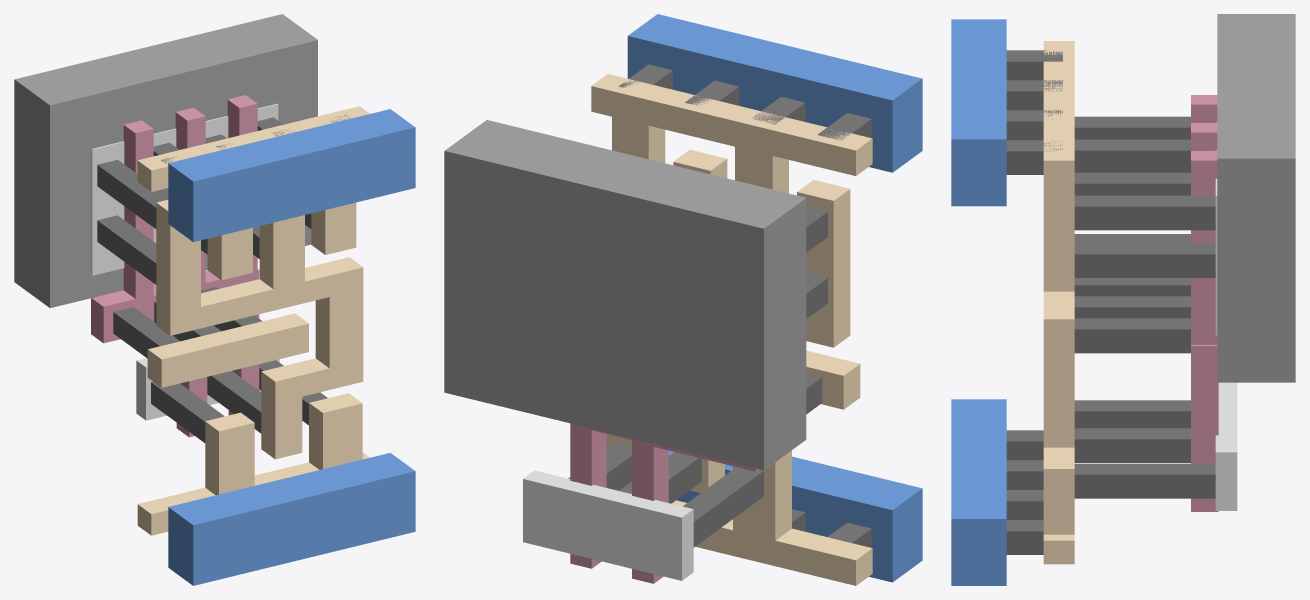
Rendered from sky130_fd_sc_hd__clkinv_2.gds.gltf.
The picture shows the model from 3 angles, left to right: view 1: azimuth 30°, elevation 25°; view 2: azimuth 150°, elevation 25°; view 3: azimuth 270°, elevation 25°; orthographic projection. The views are drawn at different scales.
Parts seen in each view (by area): view 1: sky130_fd_sc_hd__clkinv_2_li1, sky130_fd_sc_hd__clkinv_2_met1, sky130_fd_sc_hd__clkinv_2_nwell, sky130_fd_sc_hd__clkinv_2_licon, sky130_fd_sc_hd__clkinv_2_poly, sky130_fd_sc_hd__clkinv_2_diff; view 2: sky130_fd_sc_hd__clkinv_2_nwell, sky130_fd_sc_hd__clkinv_2_li1, sky130_fd_sc_hd__clkinv_2_met1, sky130_fd_sc_hd__clkinv_2_diff, sky130_fd_sc_hd__clkinv_2_licon, sky130_fd_sc_hd__clkinv_2_poly, sky130_fd_sc_hd__clkinv_2_mcon; view 3: sky130_fd_sc_hd__clkinv_2_licon, sky130_fd_sc_hd__clkinv_2_nwell, sky130_fd_sc_hd__clkinv_2_met1, sky130_fd_sc_hd__clkinv_2_li1, sky130_fd_sc_hd__clkinv_2_mcon, sky130_fd_sc_hd__clkinv_2_poly, sky130_fd_sc_hd__clkinv_2_diff.
Part boxes in pixels (x1,y1,x2,y2): sky130_fd_sc_hd__clkinv_2_li1: [137, 106, 369, 535]; sky130_fd_sc_hd__clkinv_2_met1: [168, 109, 415, 585]; sky130_fd_sc_hd__clkinv_2_nwell: [14, 14, 317, 307]; sky130_fd_sc_hd__clkinv_2_licon: [97, 117, 327, 442]; sky130_fd_sc_hd__clkinv_2_poly: [91, 95, 259, 437]; sky130_fd_sc_hd__clkinv_2_diff: [91, 103, 279, 420]; sky130_fd_sc_hd__clkinv_2_nwell: [444, 120, 806, 470]; sky130_fd_sc_hd__clkinv_2_li1: [591, 74, 872, 585]; sky130_fd_sc_hd__clkinv_2_met1: [627, 14, 922, 582]; sky130_fd_sc_hd__clkinv_2_diff: [523, 470, 693, 580]; sky130_fd_sc_hd__clkinv_2_licon: [568, 206, 827, 547]; sky130_fd_sc_hd__clkinv_2_poly: [570, 423, 758, 583]; sky130_fd_sc_hd__clkinv_2_mcon: [618, 64, 871, 547]; sky130_fd_sc_hd__clkinv_2_licon: [1074, 116, 1215, 498]; sky130_fd_sc_hd__clkinv_2_nwell: [1217, 14, 1295, 382]; sky130_fd_sc_hd__clkinv_2_met1: [951, 19, 1006, 585]; sky130_fd_sc_hd__clkinv_2_li1: [1043, 41, 1074, 564]; sky130_fd_sc_hd__clkinv_2_mcon: [1006, 50, 1062, 554]; sky130_fd_sc_hd__clkinv_2_poly: [1191, 95, 1218, 511]; sky130_fd_sc_hd__clkinv_2_diff: [1215, 122, 1237, 510].
Bounding box in the file's own units: 2.22 × 3.2 × 2.24.
